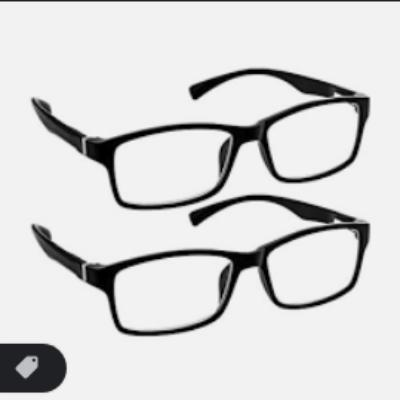glasses: (32, 192, 375, 343), (28, 68, 376, 207)
